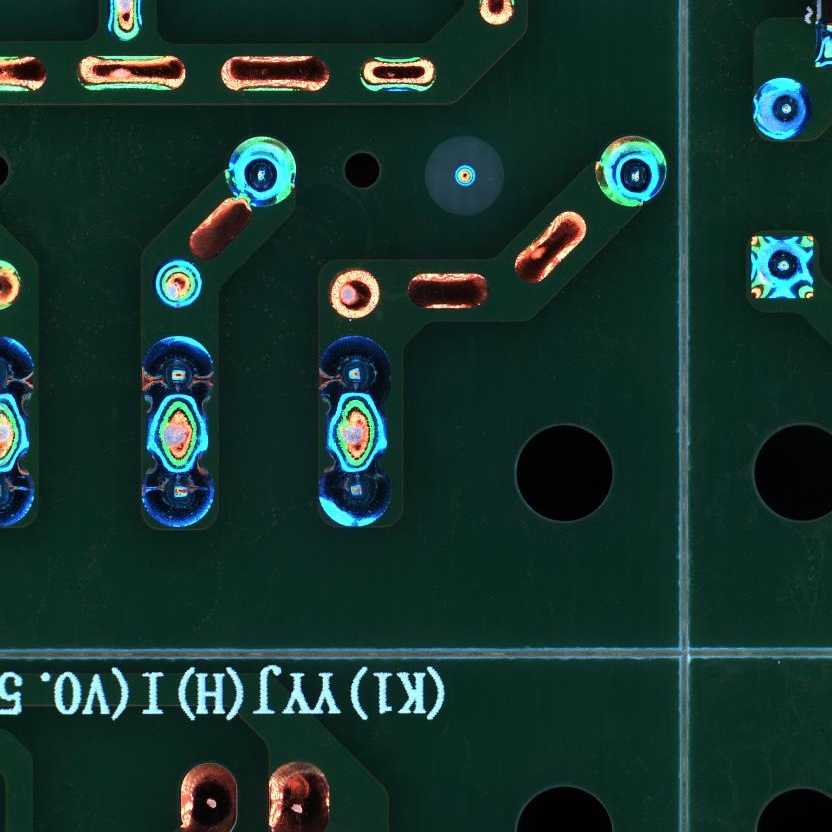spot: (316, 334, 394, 414), (140, 334, 216, 412), (223, 135, 297, 210), (744, 231, 817, 305), (594, 135, 668, 207), (318, 460, 395, 528), (140, 463, 216, 531), (749, 74, 814, 142), (154, 259, 203, 309)
